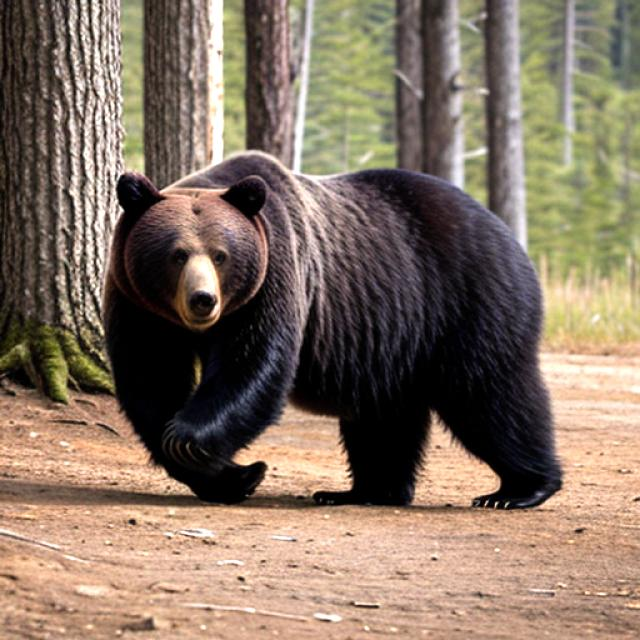bear: (95, 143, 311, 381)
